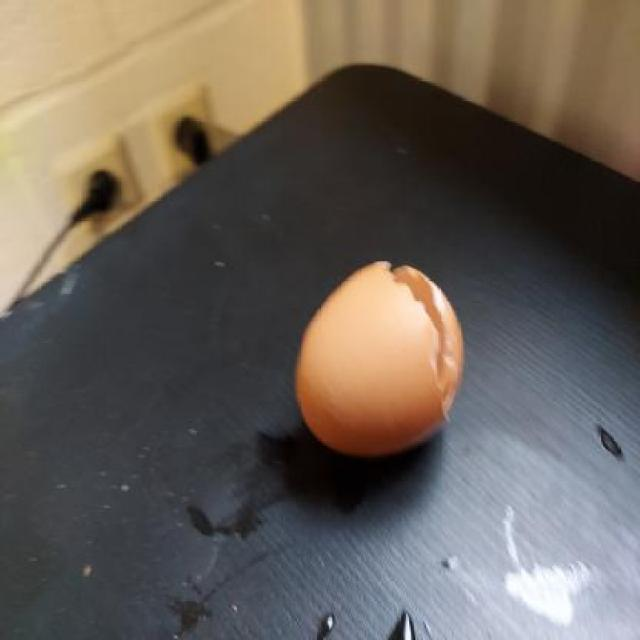biodegradable: (296, 253, 467, 454)
